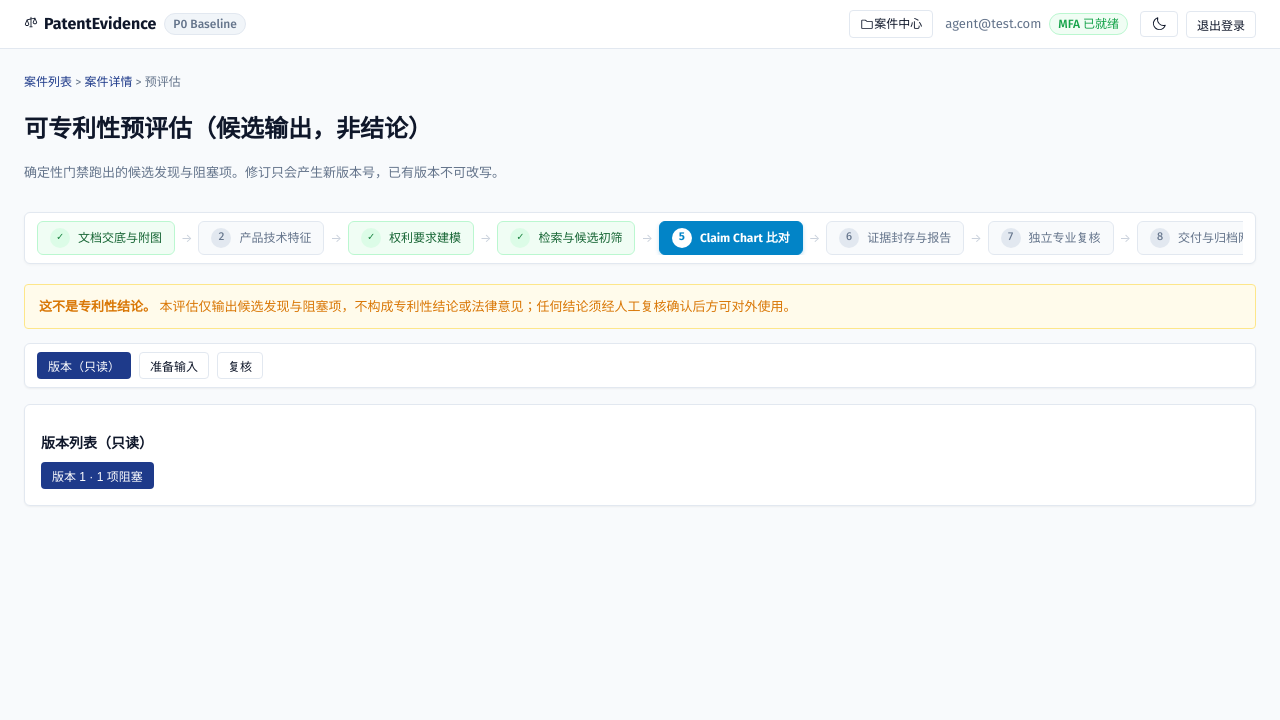
Test: Pre-assessment Web Surface › keeps write operations in a separate tab rather than the version area
Expected: the heading "版本列表（只读）" is shown, [41, 435, 153, 452]
Expected: the text "本案申请信息（日期门禁的基准）" is not shown
Click the button "准备输入": {"x": 174, "y": 366} [139, 352, 209, 379]
(page scrolled)
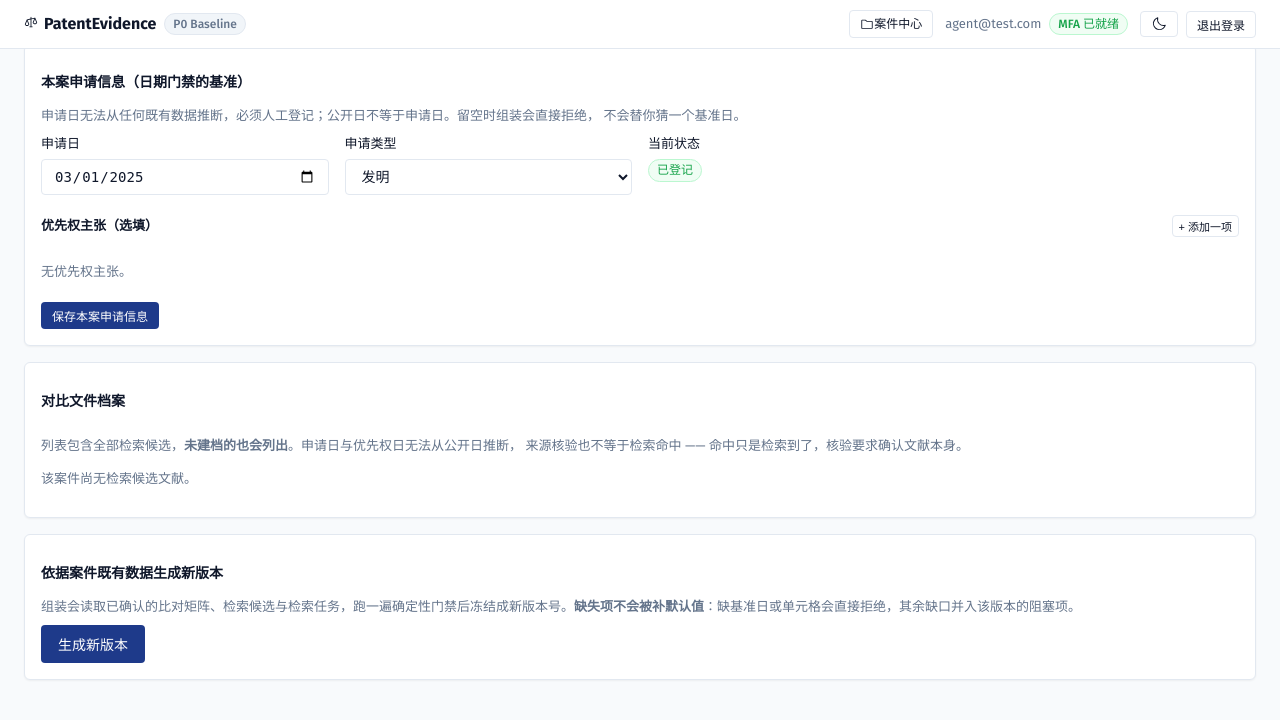
Expected: the heading "本案申请信息（日期门禁的基准）" is shown, [41, 74, 251, 91]
Expected: the button "生成新版本" is shown, [41, 625, 145, 663]
Expected: the heading "版本列表（只读）" is gone
